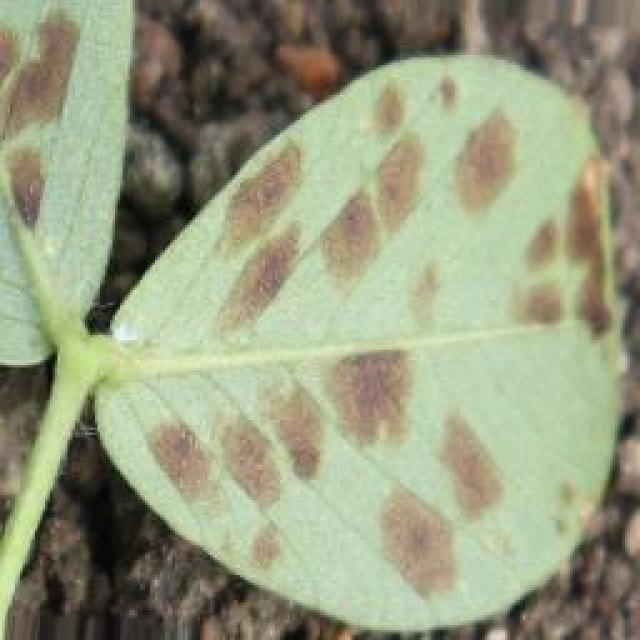Whitefly: (0, 0, 616, 611)
